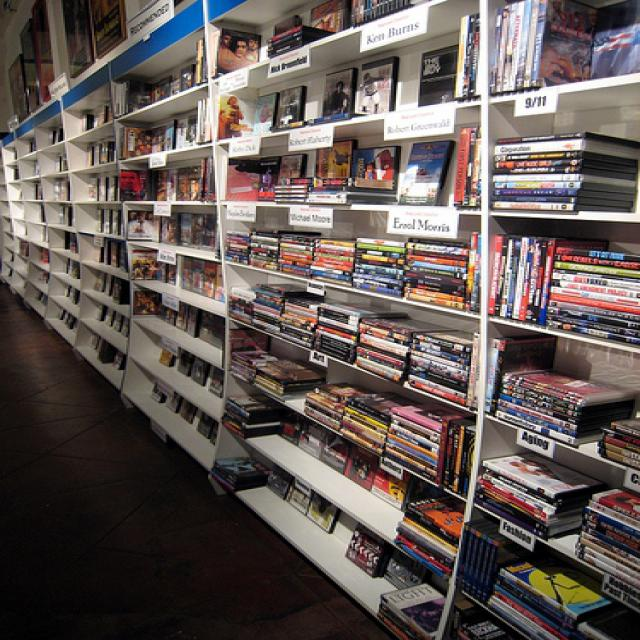floor -X: (2, 278, 389, 637)
shelves crop: (0, 0, 637, 636)
video: (394, 137, 447, 204), (346, 55, 396, 116), (415, 42, 459, 105), (268, 84, 302, 124)
videos: (488, 127, 633, 211), (473, 451, 604, 539), (493, 367, 635, 444), (486, 234, 608, 321), (488, 0, 597, 95), (539, 247, 637, 342), (449, 515, 541, 604), (379, 402, 464, 481), (352, 316, 447, 383), (573, 486, 633, 586), (311, 302, 406, 361), (404, 328, 473, 404), (338, 390, 420, 452), (404, 238, 469, 307), (299, 379, 370, 431), (433, 415, 476, 499), (348, 236, 404, 294), (246, 357, 323, 398), (275, 232, 329, 275), (307, 236, 353, 285), (159, 212, 215, 247)
